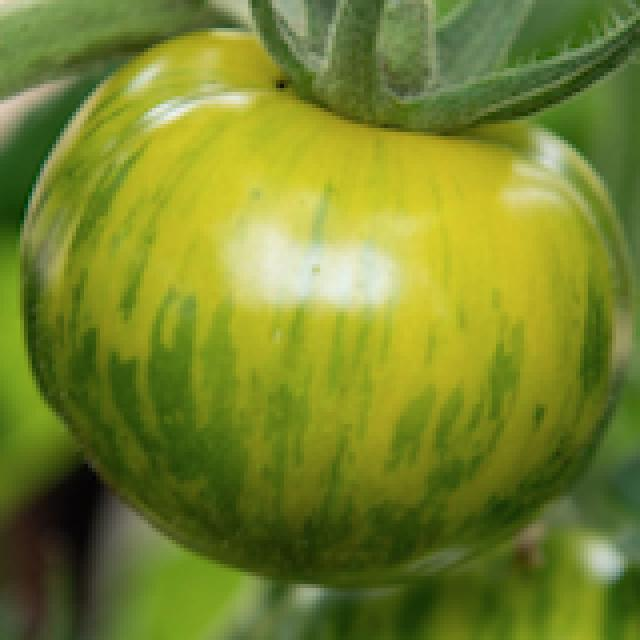yesil: (12, 39, 634, 596)
